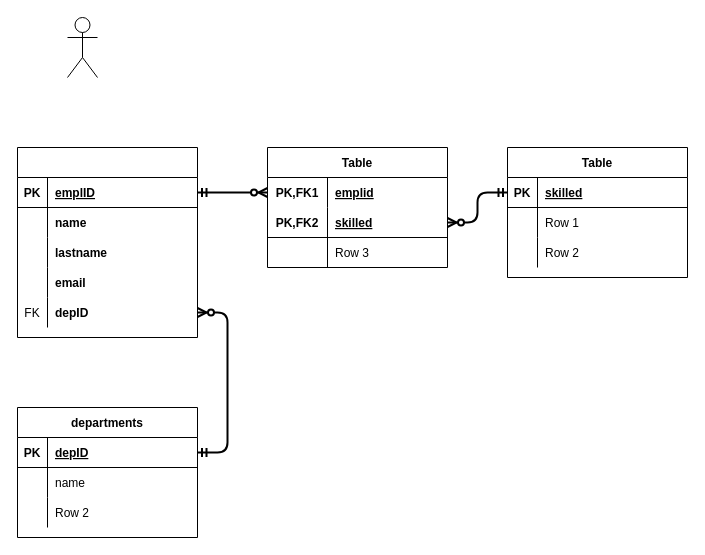
This 705x555 diagram has some shape labels left out. The box of each missing label's shape, as (x1, y1, x2, y2) in pixels:
Actor: (66, 16, 98, 78)
employee: (16, 146, 198, 338)
